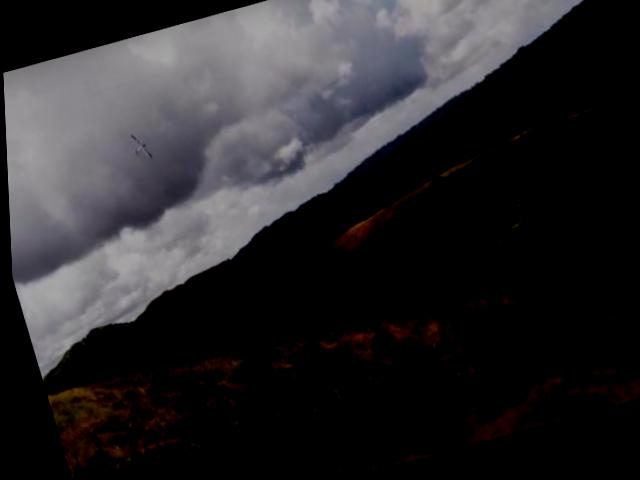iha: (127, 134, 151, 162)
